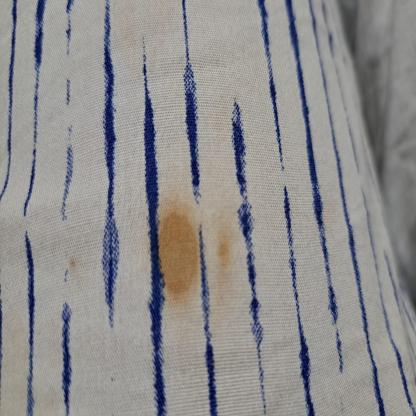spot: (146, 189, 204, 308), (214, 220, 236, 284), (64, 250, 78, 284)
